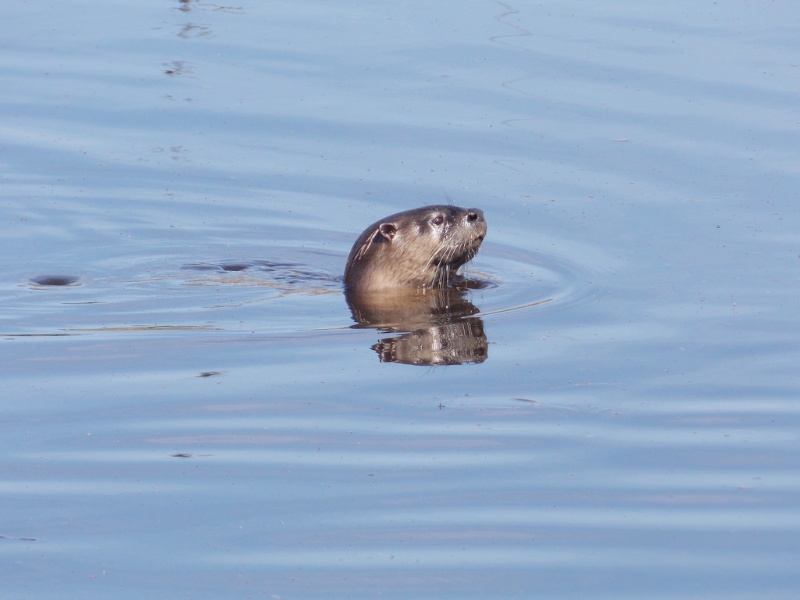minkish: (330, 202, 506, 302)
